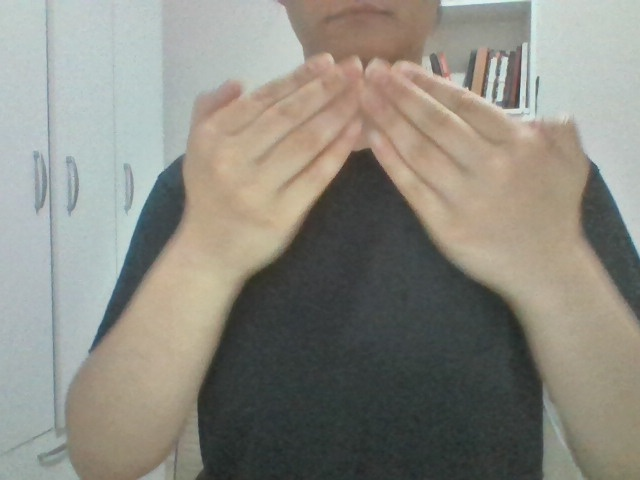Thanks: (98, 46, 611, 308)
